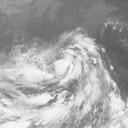cyclone: (37, 30, 101, 90)
